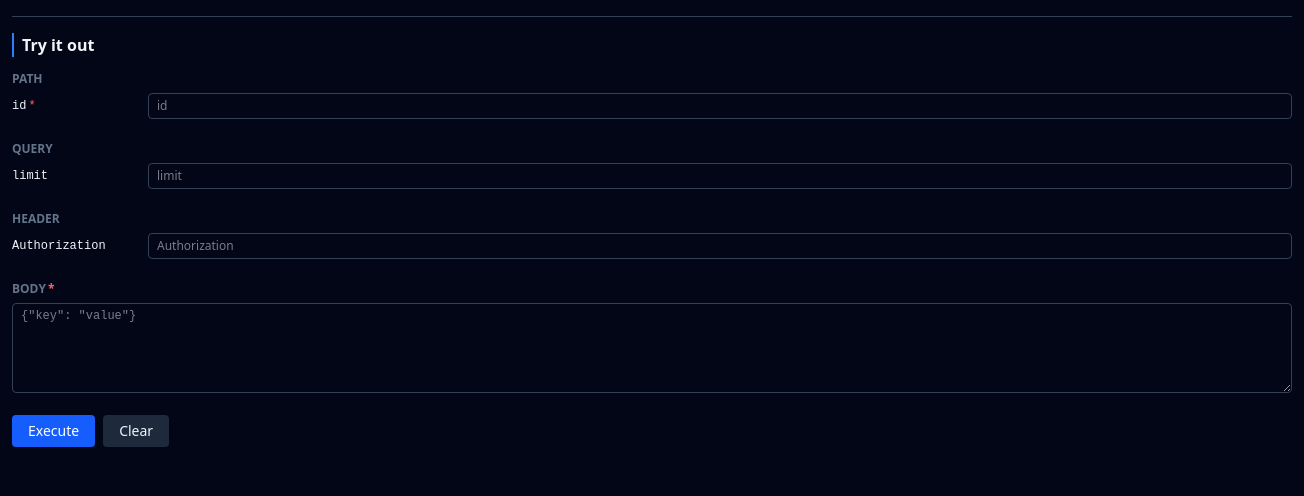
Test: TryItOut › renders request error
Click the button "Execute": (54, 431) [12,415,95,447]
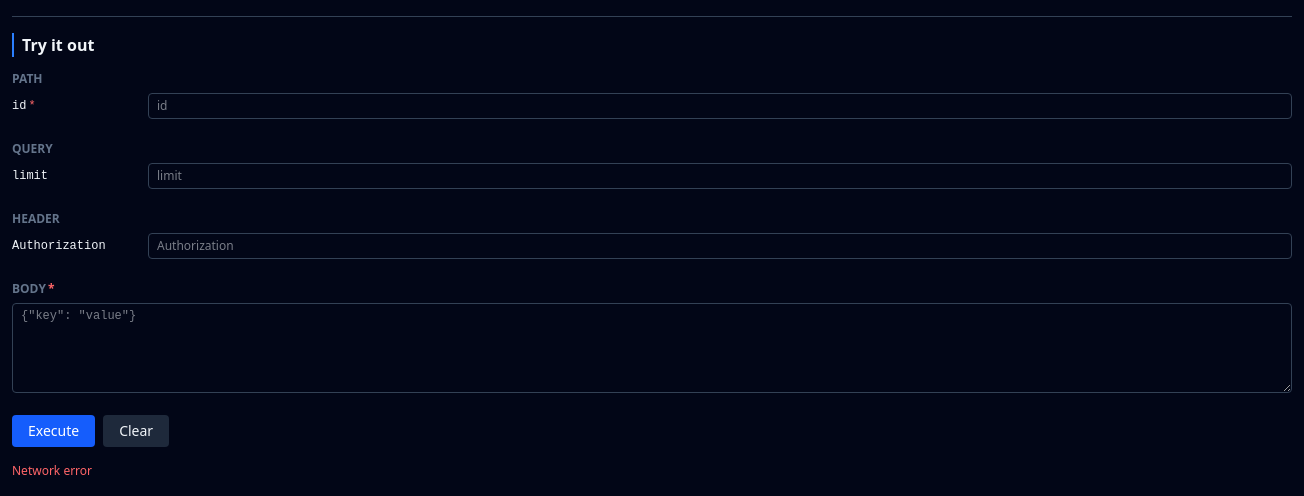
Expected: the text "Network error" is shown, [12,462,92,479]
